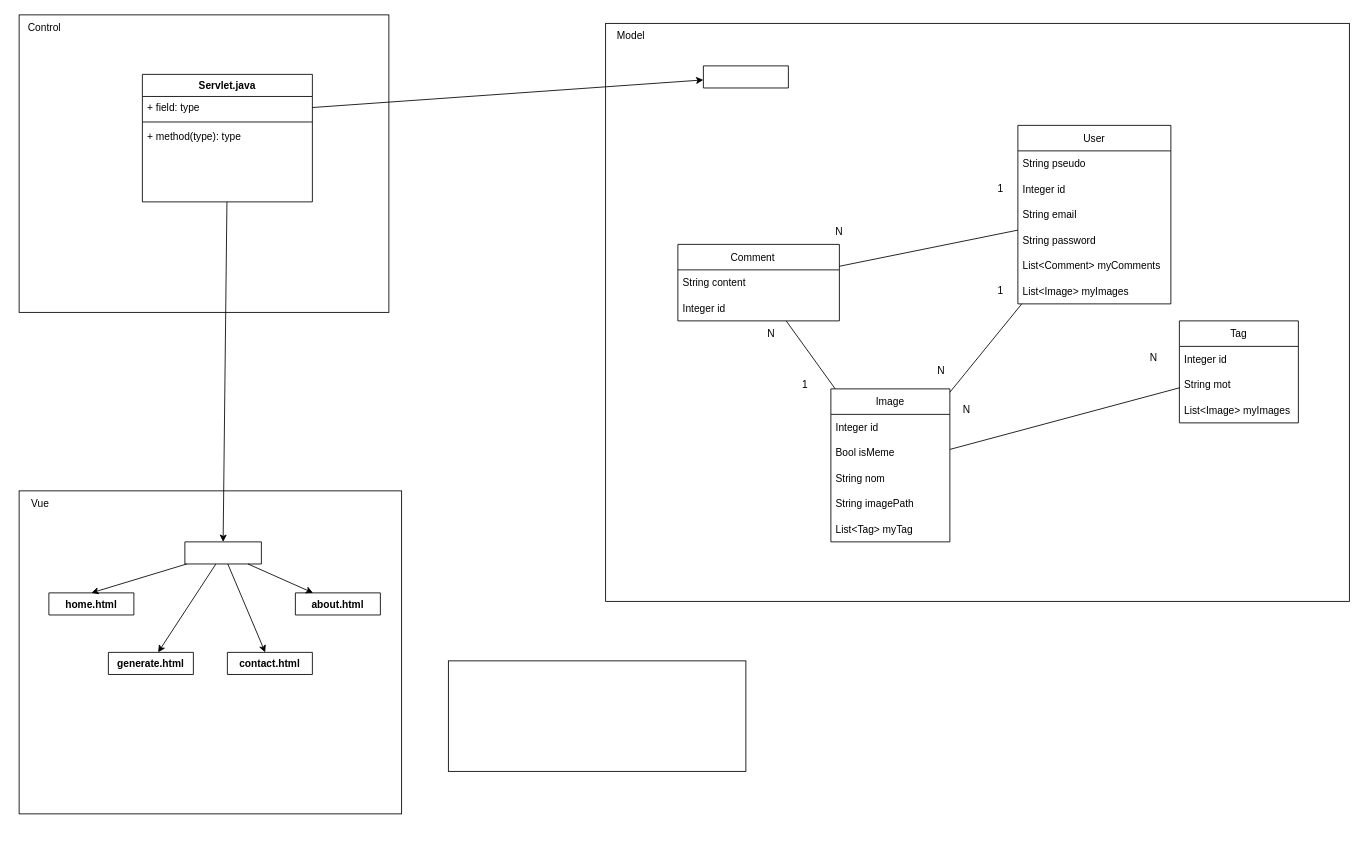
Some shapes in this 1364 by 859 pixel diagram are drawn without their labels. Each missing label, with the centre of its shape:
Façade.java: point (745, 76)
index.html: point (222, 552)
Modèle MVC => Modèle Ajax (React): point (597, 715)
